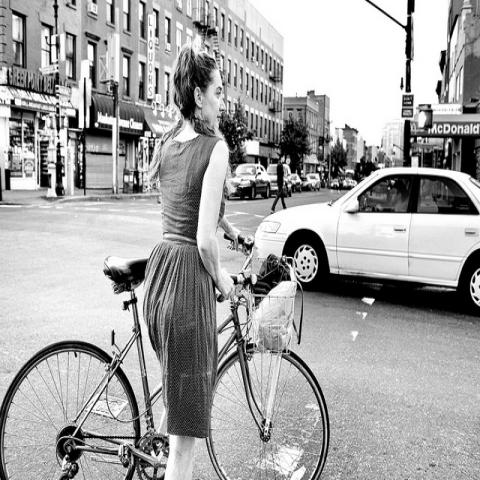car: (252, 161, 479, 317), (224, 164, 272, 200), (267, 164, 296, 196), (306, 173, 321, 191), (292, 174, 302, 193), (300, 175, 312, 190)
